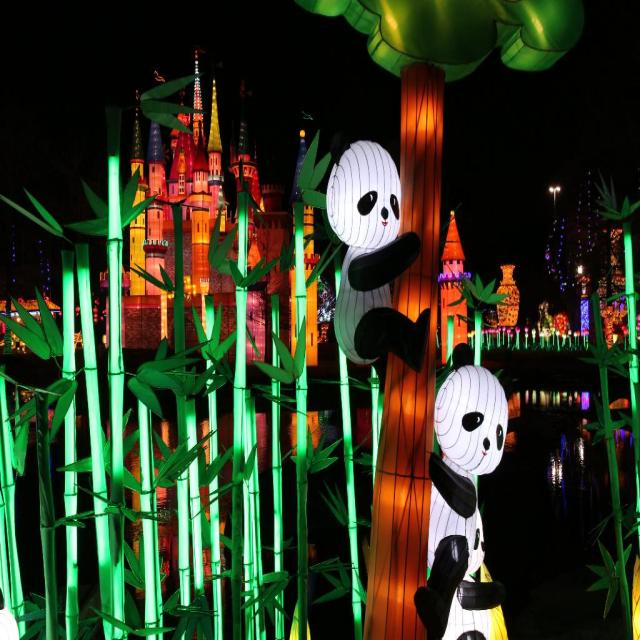panda: (410, 340, 515, 640), (330, 138, 428, 398), (443, 508, 500, 639)
